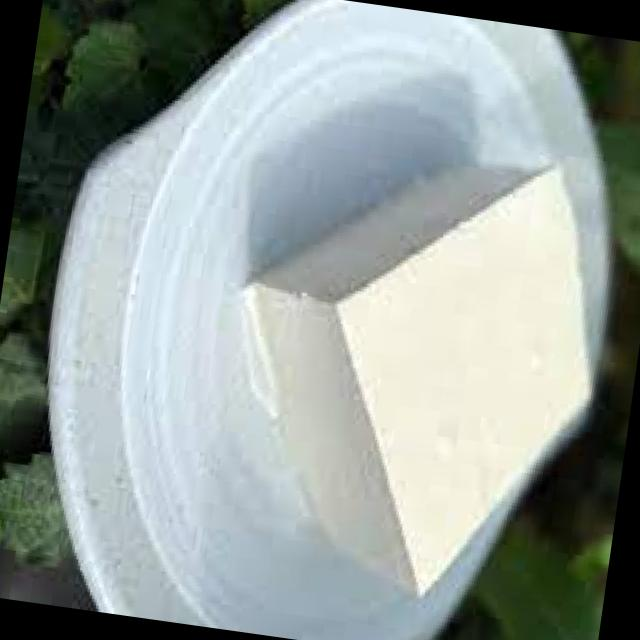tof: (182, 142, 608, 627)
